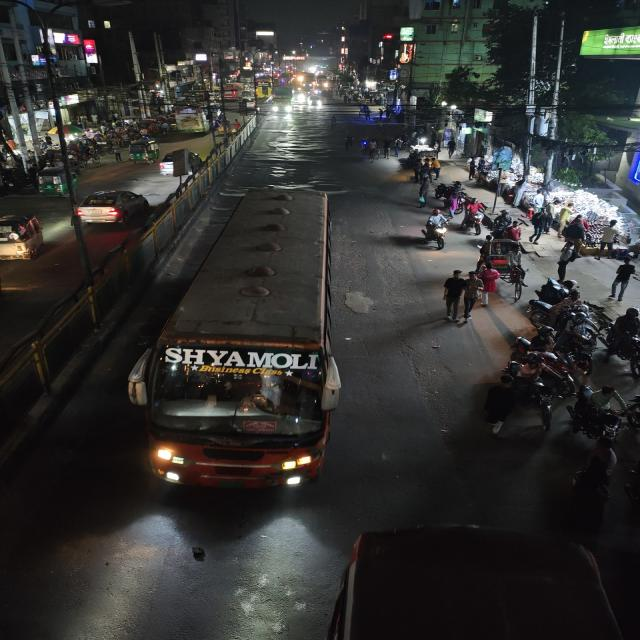bus: (141, 188, 340, 496), (321, 518, 635, 640), (270, 84, 294, 113)
car: (72, 187, 153, 229)
cng: (0, 211, 47, 265), (34, 166, 80, 198)
motorcycle: (563, 386, 627, 448), (603, 306, 640, 378), (502, 336, 548, 385), (441, 180, 486, 230)
pedestrian: (481, 374, 516, 439), (554, 215, 588, 273), (438, 268, 470, 326), (453, 271, 484, 323), (609, 257, 637, 301), (529, 203, 553, 244), (600, 218, 620, 259), (342, 134, 356, 152)
rickshaw: (478, 239, 530, 300), (408, 149, 443, 183)
truck: (156, 147, 207, 179)
